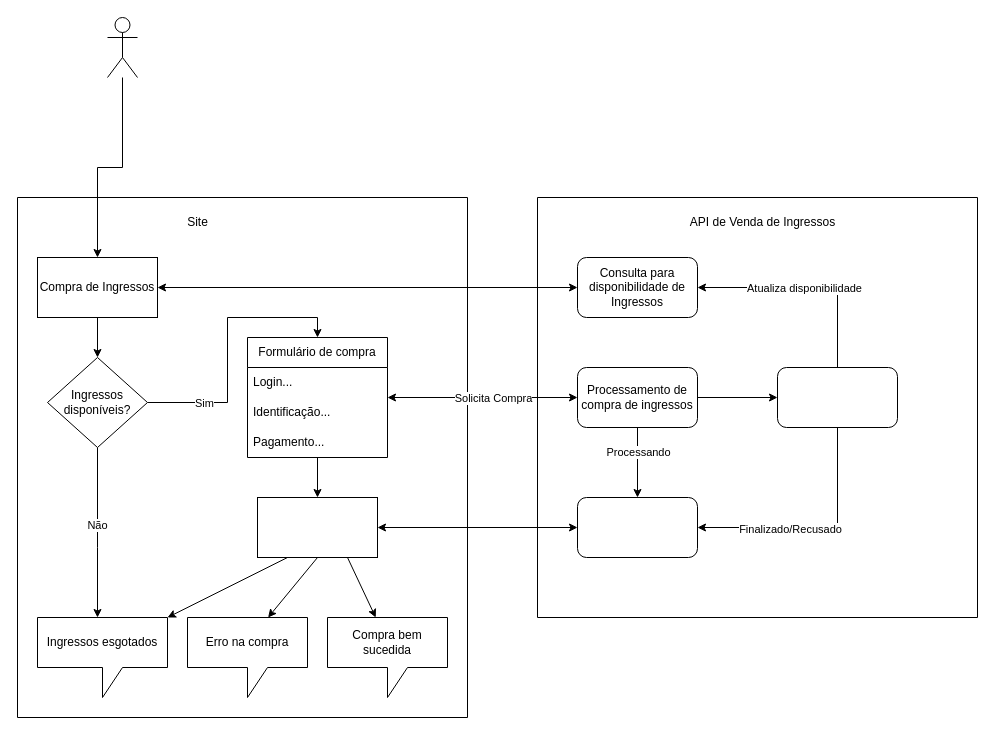
Some shapes in this 995 by 735 pixel diagram are drawn without their labels. The centre of each missing label's shape, as x and y in pixels:
"Aguardando Processamento" goes at (317,527).
"Cliente" goes at (122,47).
"Consulta status da Compra" goes at (637,527).
"Pagamento" goes at (837,397).
